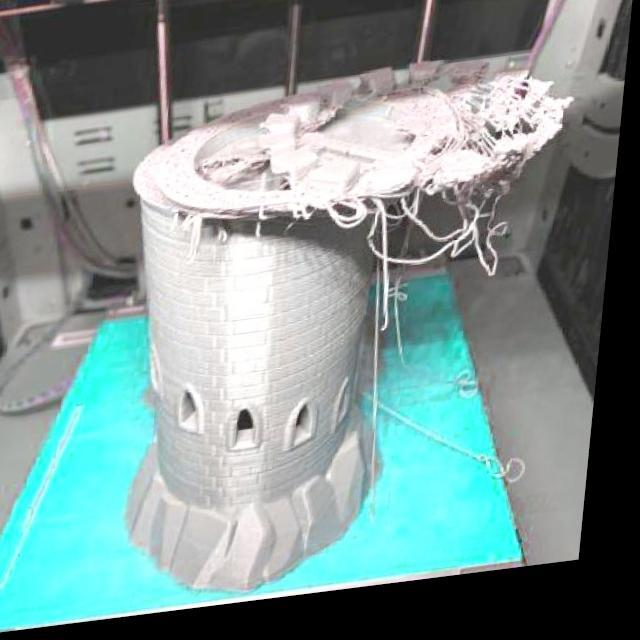spaghetti: (323, 173, 532, 310)
